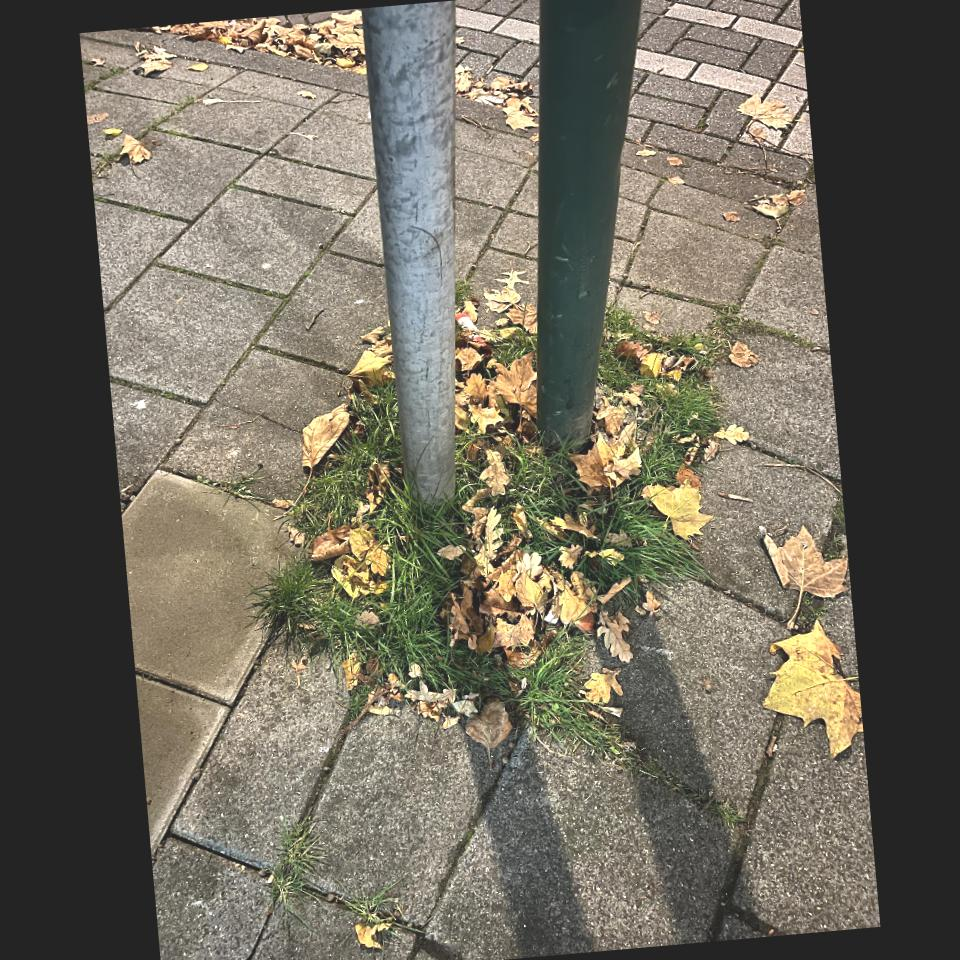weed: (258, 517, 511, 699), (296, 398, 398, 533), (505, 634, 612, 752), (632, 371, 721, 488), (606, 308, 743, 363), (612, 497, 694, 582), (614, 494, 693, 580), (488, 448, 583, 517), (302, 475, 336, 533), (601, 342, 634, 393), (492, 328, 535, 363), (450, 472, 483, 504), (455, 280, 472, 305)
